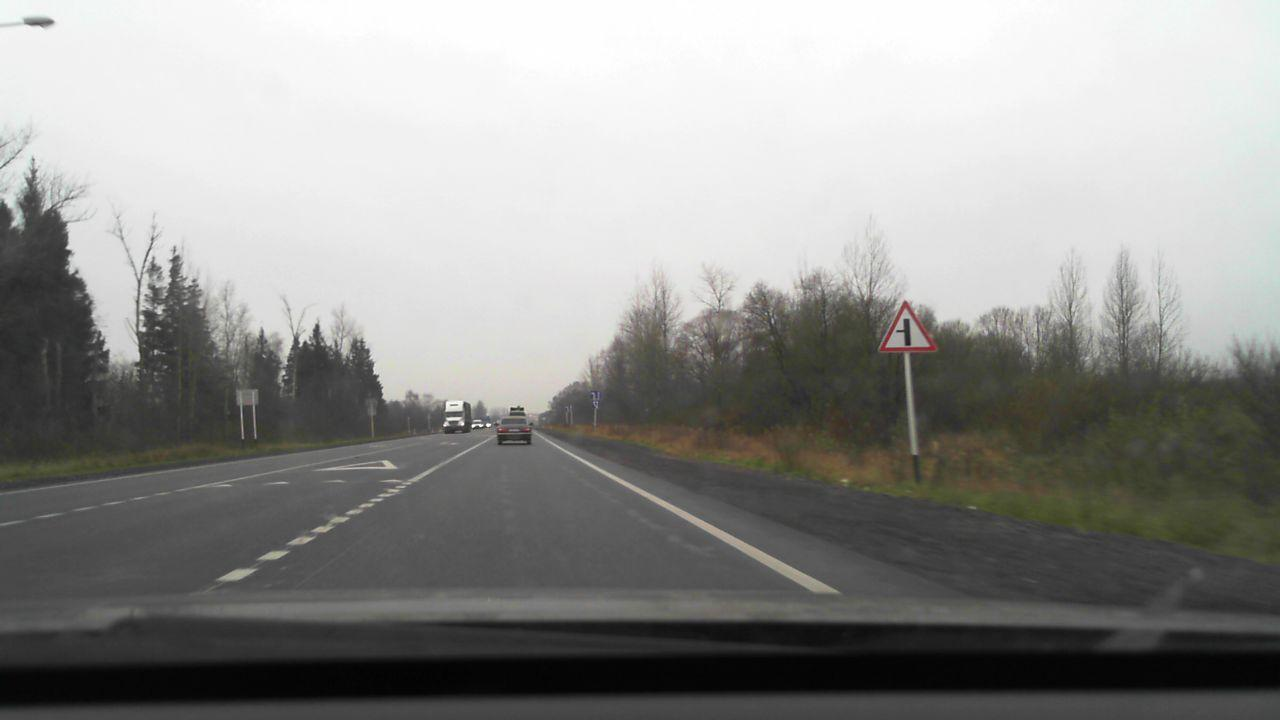2_3_3: (877, 299, 938, 353)
